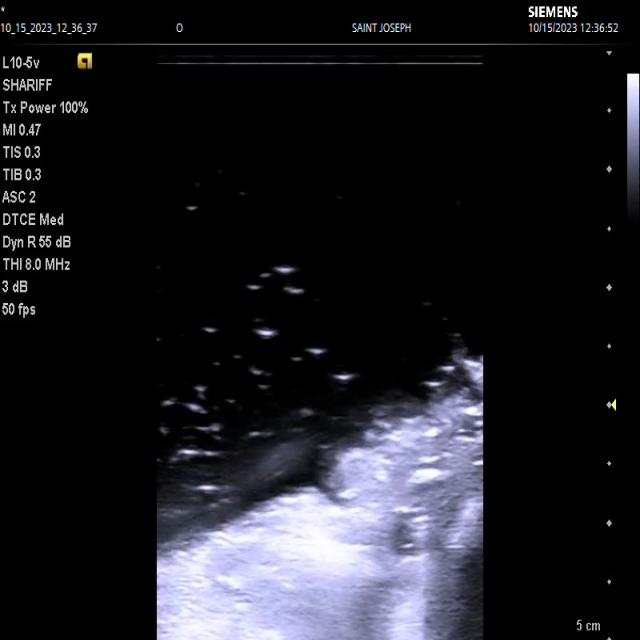tissue: (158, 350, 482, 640)
